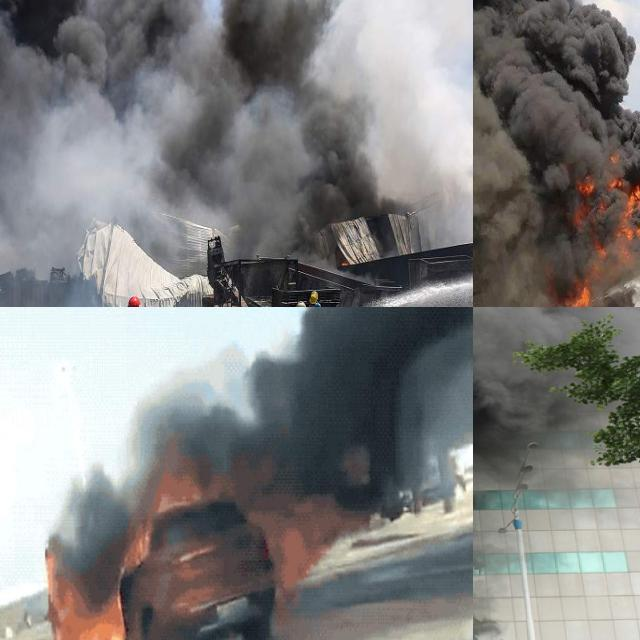fire: (34, 450, 323, 640), (570, 147, 640, 307)
smoke: (0, 0, 473, 274), (58, 307, 473, 604), (473, 307, 637, 640), (473, 0, 640, 307)
